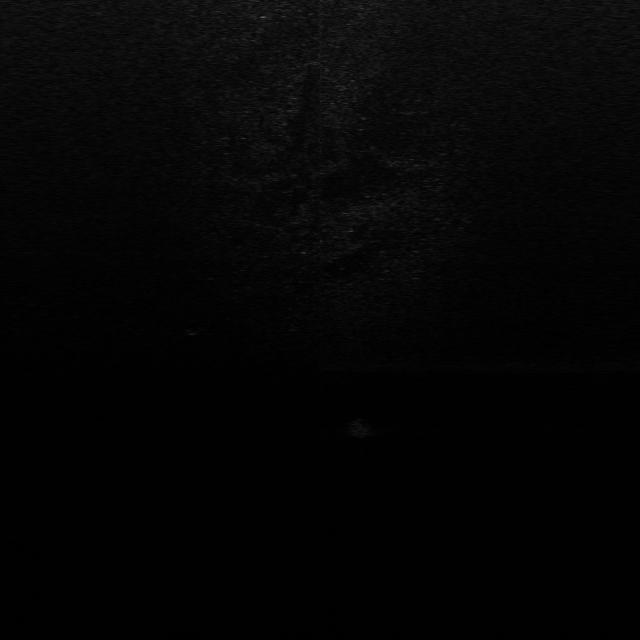ball: (346, 418, 376, 437)
circle cage: (182, 318, 207, 334)
